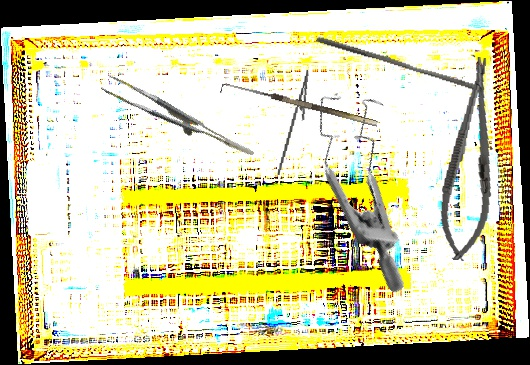Hook Surgical: (219, 79, 379, 135)
Needle Holder: (433, 54, 509, 264), (276, 67, 318, 179)
Pusher: (313, 35, 487, 94)
Speculum: (256, 69, 486, 296)
Tissue Forceps: (100, 61, 255, 180)
